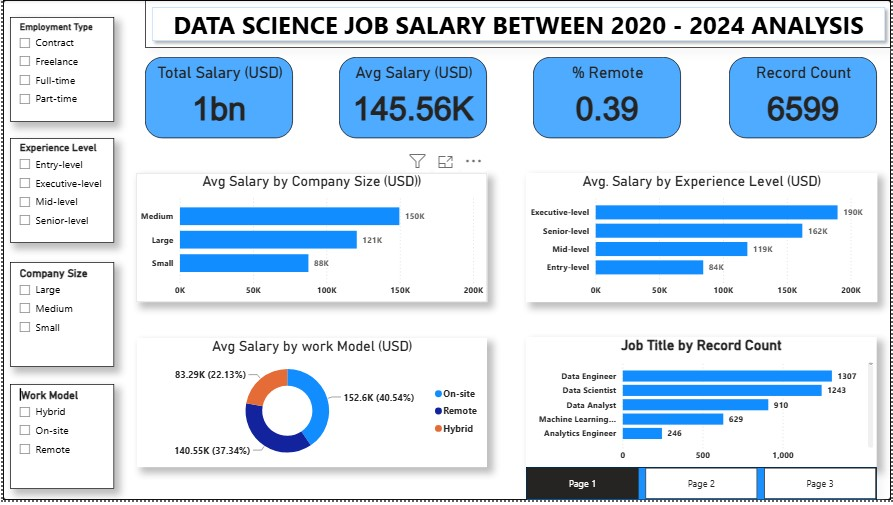

What the dashboard file says about the page in this screenshot:
{"tool":"powerbi","page":{"name":"Page 1","canvas":[1280,720],"ordinal":0},"visuals":[{"type":"clusteredBarChart","title":"Avg Salary by Company Size (USD))","fields":{"Category":["Ubong_Dataset_1.company_size"],"Y":["Ubong_Dataset_1.(USD)Avg Salary (USD)"]},"box":[191.5,248.6,505.6,186.5],"z":0},{"type":"donutChart","title":"Avg Salary by work Model (USD)","fields":{"Category":["Ubong_Dataset_1.work_models"],"Y":["Ubong_Dataset_1.(USD)Avg Salary (USD)"]},"box":[193.2,487.1,503.9,186.5],"z":1000},{"type":"clusteredBarChart","title":"Avg. Salary by Experience Level (USD)","fields":{"Category":["Ubong_Dataset_1.experience_level"],"Y":["Ubong_Dataset_1.(USD)Avg Salary (USD)"]},"box":[752.5,248.6,505.6,186.5],"z":2000},{"type":"clusteredBarChart","title":"Job Title  by Record Count","fields":{"Category":["Ubong_Dataset_1.job_title"],"Y":["Ubong_Dataset_1.Record Count"]},"box":[752.5,487.1,505.6,188.1],"z":3000},{"type":"card","title":"Total Salary (USD)","fields":{"Values":["Sum(Ubong_Dataset_1.salary)"]},"box":[204.5,82.1,213.1,116.6],"z":4000},{"type":"slicer","title":"Work Model","fields":{"Values":["Ubong_Dataset_1.work_models"]},"box":[10.1,553,149.8,151.2],"z":5000},{"type":"card","title":"Avg  Salary (USD)","fields":{"Values":["Ubong_Dataset_1.(USD)Avg Salary (USD)"]},"box":[483.8,82.1,213.1,116.6],"z":6000},{"type":"card","title":"% Remote","fields":{"Values":["Ubong_Dataset_1.Pct Remote"]},"box":[763.2,82.1,213.1,116.6],"z":7000},{"type":"card","title":"Record Count","fields":{"Values":["Ubong_Dataset_1.Record Count"]},"box":[1045.4,82.1,213.1,116.6],"z":8000},{"type":"slicer","title":"Work Model","fields":{"Values":["Ubong_Dataset_1.company_size"]},"box":[10.1,377.3,149.8,151.2],"z":9000},{"type":"slicer","title":"Work Model","fields":{"Values":["Ubong_Dataset_1.experience_level","Ubong_Dataset_1.experience_level"]},"box":[10.1,198.7,149.8,151.2],"z":10000},{"type":"slicer","title":"Work Model","fields":{"Values":["Ubong_Dataset_1.employment_type"]},"box":[10.1,24.5,149.8,151.2],"z":11000},{"type":"shape","box":[204.5,0,1075.7,69.1],"z":12000}]}

Visuals, with their boxes in screenshot pixels (x1, y1, x2, y2), scaled from the page's 1280x720 canvas onto the 893x505 screenshot:
"Avg Salary by Company Size (USD))" clusteredBarChart: [x1=134, y1=174, x2=486, y2=305]
"Avg Salary by work Model (USD)" donutChart: [x1=135, y1=342, x2=486, y2=472]
"Avg. Salary by Experience Level (USD)" clusteredBarChart: [x1=525, y1=174, x2=878, y2=305]
"Job Title  by Record Count" clusteredBarChart: [x1=525, y1=342, x2=878, y2=474]
"Total Salary (USD)" card: [x1=143, y1=58, x2=291, y2=139]
"Work Model" slicer: [x1=7, y1=388, x2=112, y2=494]
"Avg  Salary (USD)" card: [x1=338, y1=58, x2=486, y2=139]
"% Remote" card: [x1=532, y1=58, x2=681, y2=139]
"Record Count" card: [x1=729, y1=58, x2=878, y2=139]
"Work Model" slicer: [x1=7, y1=265, x2=112, y2=371]
"Work Model" slicer: [x1=7, y1=139, x2=112, y2=245]
"Work Model" slicer: [x1=7, y1=17, x2=112, y2=123]
shape: [x1=143, y1=0, x2=892, y2=48]
